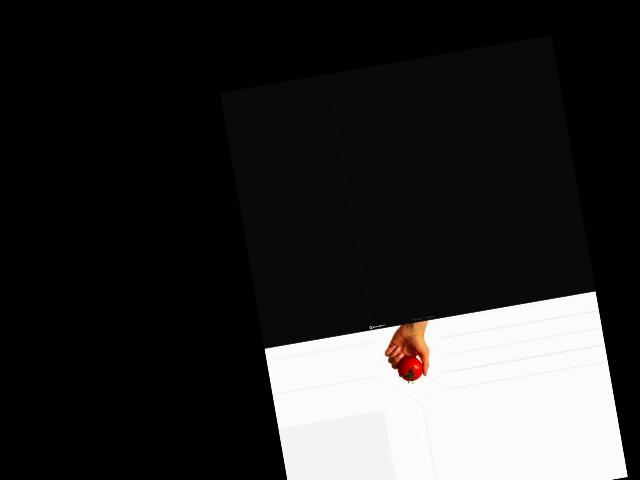tomato: (396, 353, 425, 383)
